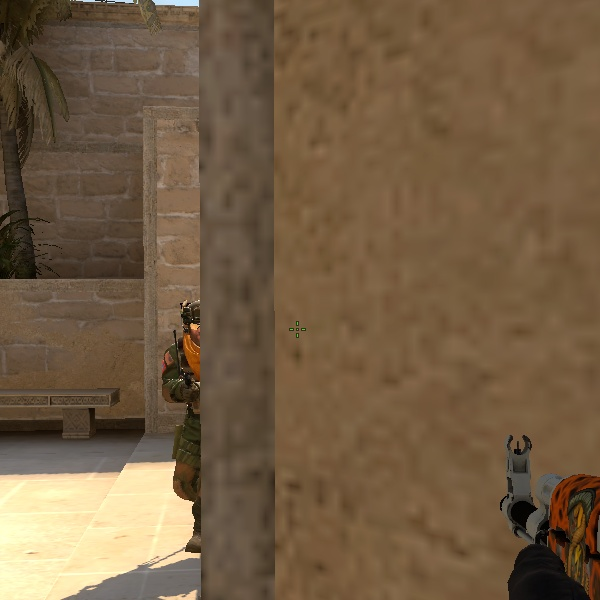t_body: (150, 293, 211, 517)
t_head: (171, 294, 205, 340)
